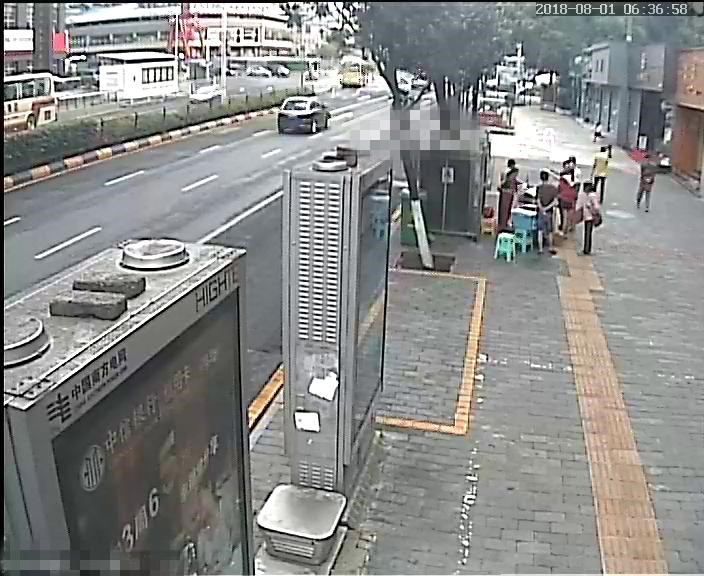vendors: (511, 171, 563, 248), (476, 95, 512, 133)
